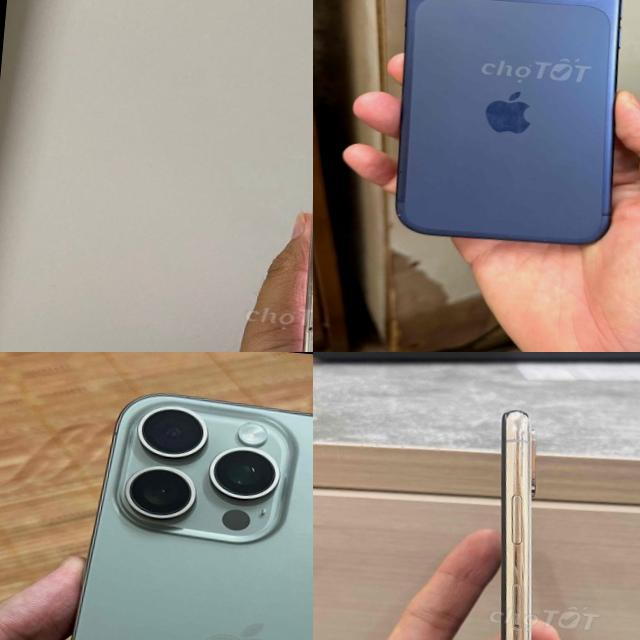scratch: (291, 251, 313, 352)
